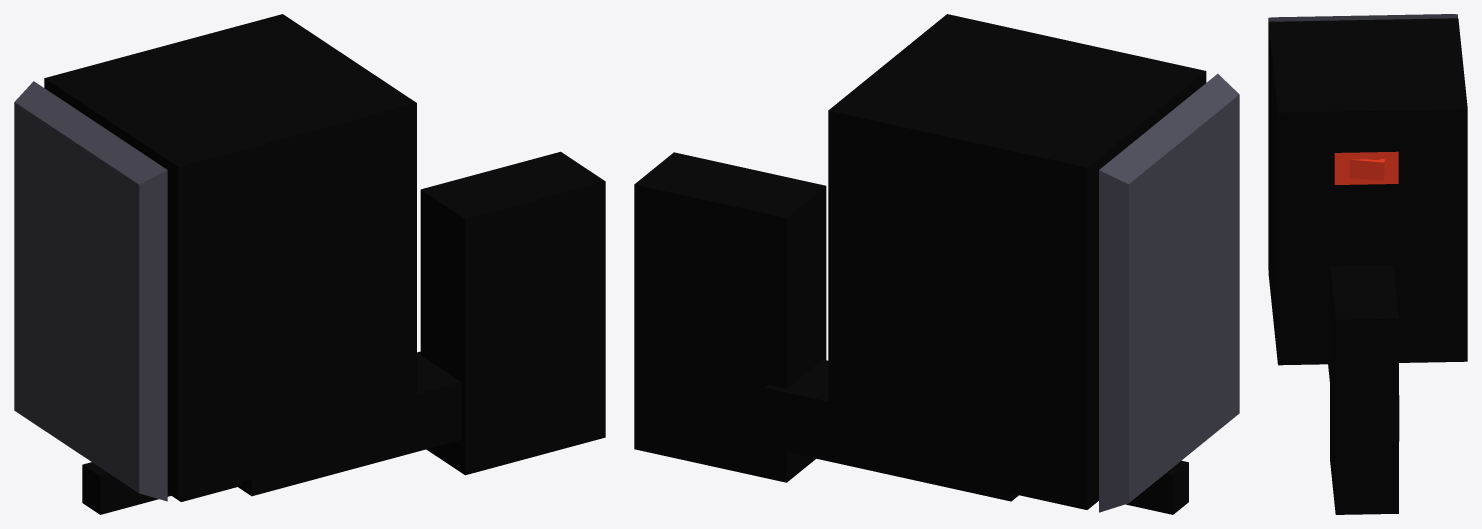
Rendered from ParlanteL2_AxelS_47168608.fbx.
The picture shows the model from 3 angles, left to right: view 1: azimuth 30°, elevation 25°; view 2: azimuth 150°, elevation 25°; view 3: azimuth 270°, elevation 25°; orthographic projection. The views are drawn at different scales.
Parts seen in each view (by area): view 1: Parlante.001, Soporte; view 2: Parlante.001, Soporte; view 3: Parlante.001, Soporte.
Boxes of the visible parts, x1=… form: Parlante.001: x1=14, y1=14, x2=416, y2=501; Soporte: x1=82, y1=151, x2=605, y2=514; Parlante.001: x1=828, y1=14, x2=1239, y2=512; Soporte: x1=634, y1=152, x2=1188, y2=514; Parlante.001: x1=1268, y1=14, x2=1467, y2=365; Soporte: x1=1328, y1=265, x2=1399, y2=514.
Bounding box in the file's own units: 35.8 × 27.71 × 15.76.
Materials: 2 (1 with a texture image).
